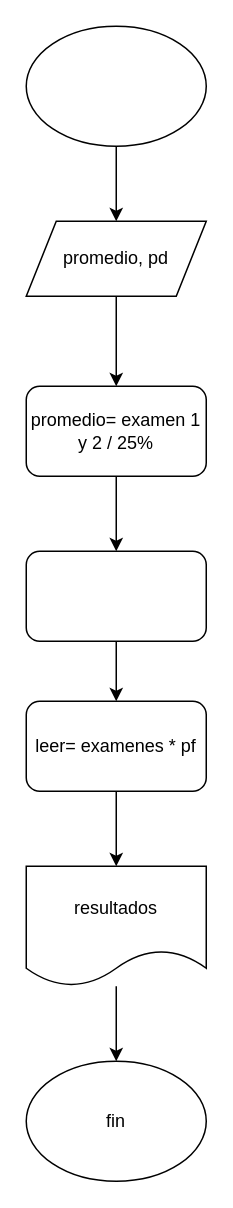
The diagram is 233 pixels wide and 1208 high, and some of its shapes have lost their labels. Each missing label, with the centre of its shape:
"inicio" goes at point 115,85.
"promedio= examen s / 50%" goes at point 115,595.
